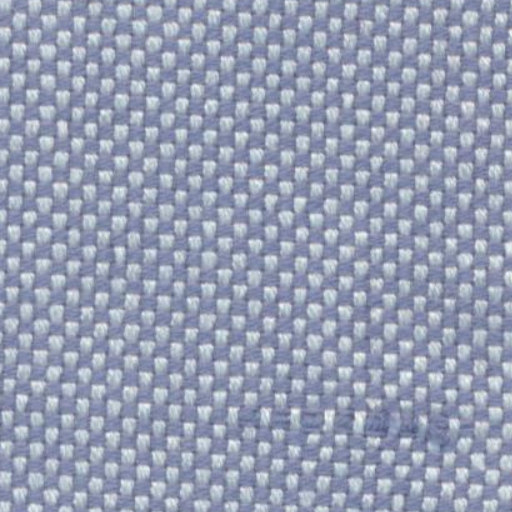TuoSha: (264, 382, 440, 466)
